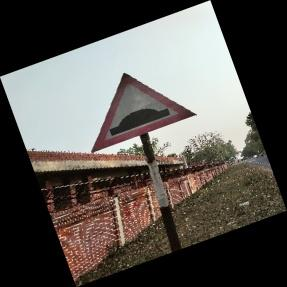Speed-breaker: (90, 73, 197, 152)
